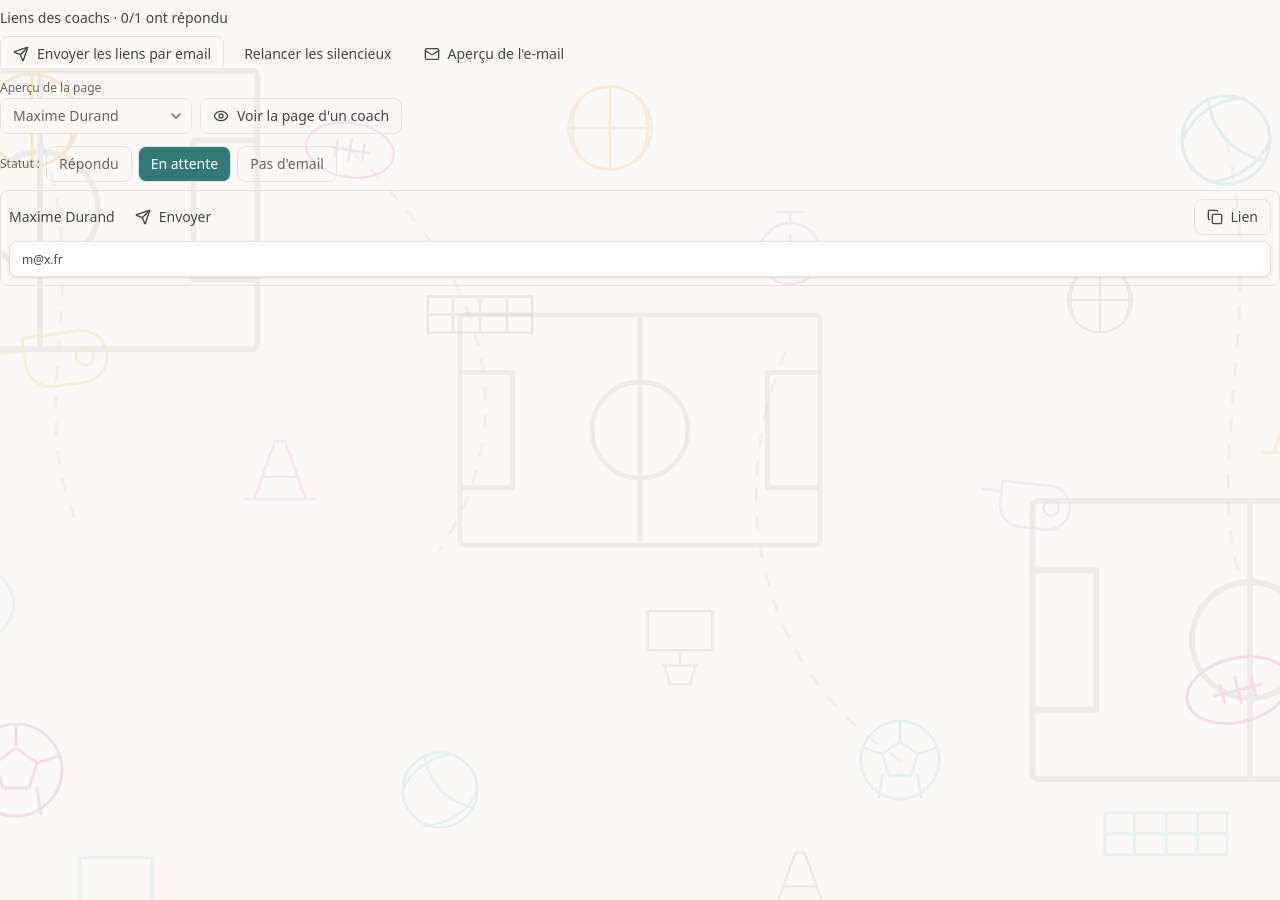
Test: SollicitationTab › montre un chargement tant que l'aperçu n'est pas arrivé (jamais une iframe vide)
The width and height of the screenshot is (1280, 900).
Click the button "Aperçu de l'e-mail".
click(494, 54)  # box [412,36,576,72]
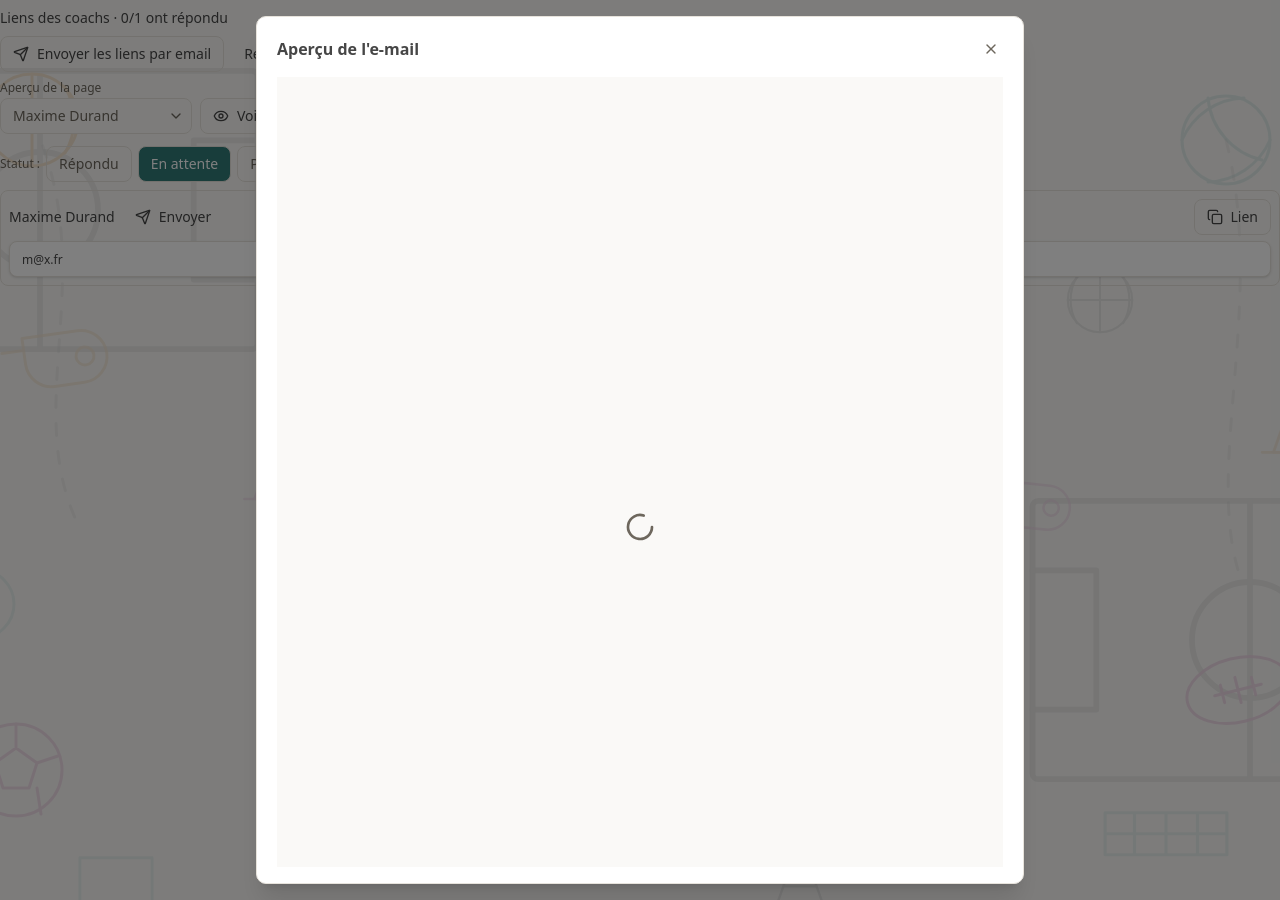
Check: the icon named "Chargement" is shown, box [624,511,656,543]
